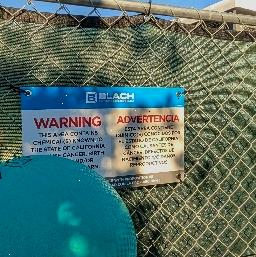algae: (0, 155, 137, 257)
